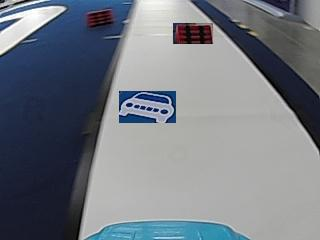bomb: (86, 7, 113, 26)
